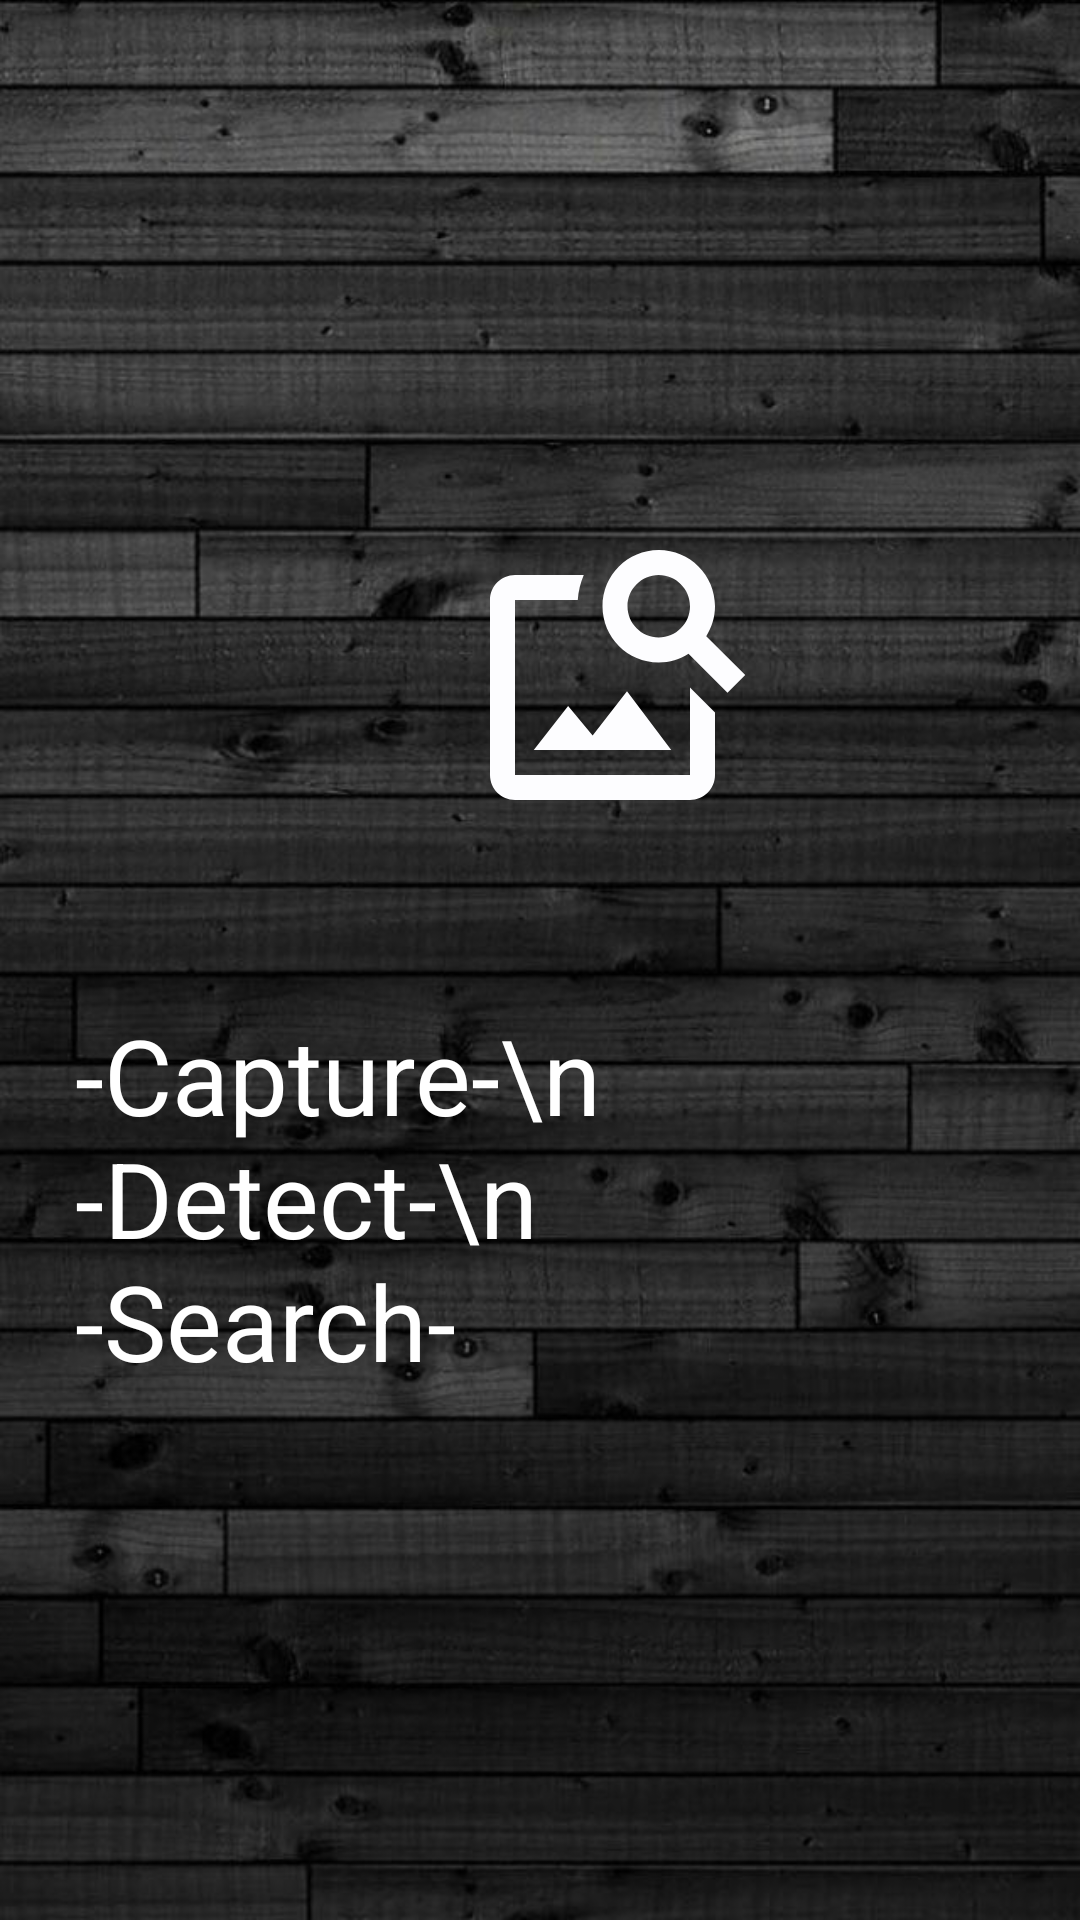

Screen size 1080*1920. Icon name, then its box in pixels as (x1=x1, y1=y1, x2=x2, y2=y2):
search: (x1=465, y1=526, x2=765, y2=823)
